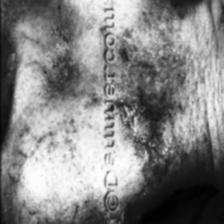Potentially Malignant Skin Tumors: (46, 32, 72, 86), (88, 203, 138, 224)
